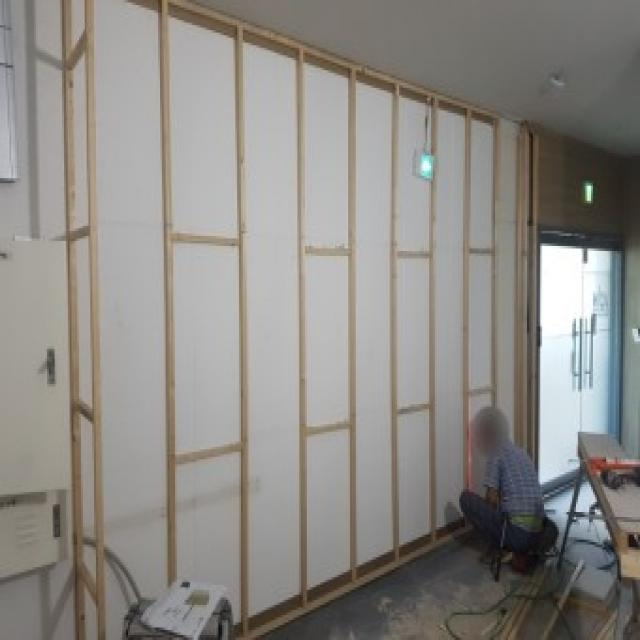stud: (61, 0, 500, 640)
wood: (498, 553, 553, 640), (539, 556, 584, 640)
